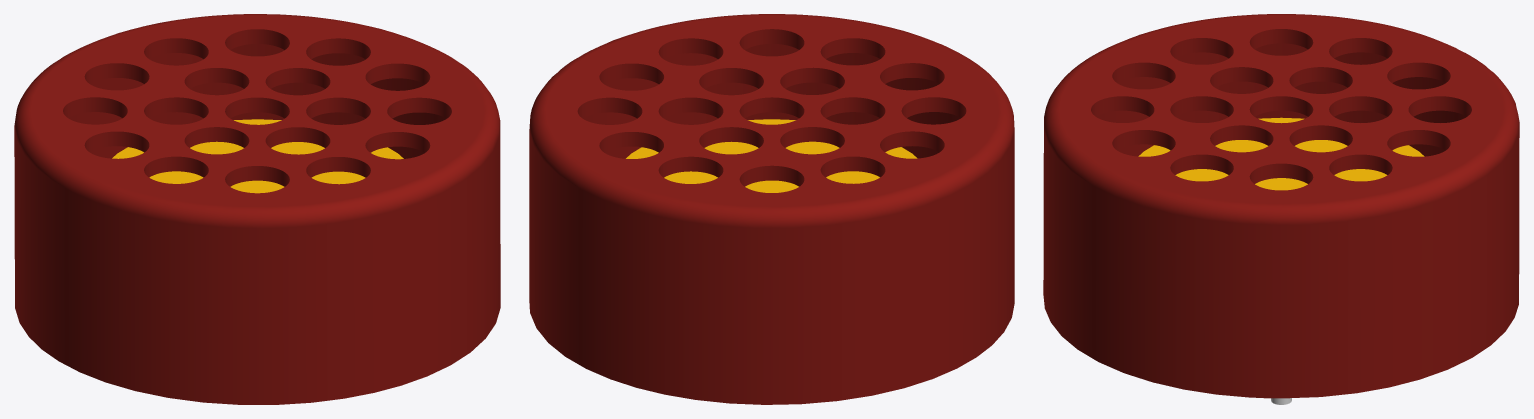
The model's file is Buzzer.fbx.
The picture shows the model from 3 angles, left to right: view 1: azimuth 30°, elevation 25°; view 2: azimuth 150°, elevation 25°; view 3: azimuth 270°, elevation 25°; orthographic projection. The views are drawn at different scales.
Visible parts, largest first — view 1: SOLID, SOLID.001; view 2: SOLID, SOLID.001; view 3: SOLID, SOLID.001.
Part boxes in pixels (x1,y1,x2,y2): SOLID: (14, 14, 500, 404); SOLID.001: (112, 119, 403, 193); SOLID: (529, 14, 1014, 404); SOLID.001: (626, 119, 917, 192); SOLID: (1043, 14, 1519, 398); SOLID.001: (1138, 117, 1424, 190).
Bounding box in the file's own units: 2.3 × 1.2 × 2.3.
